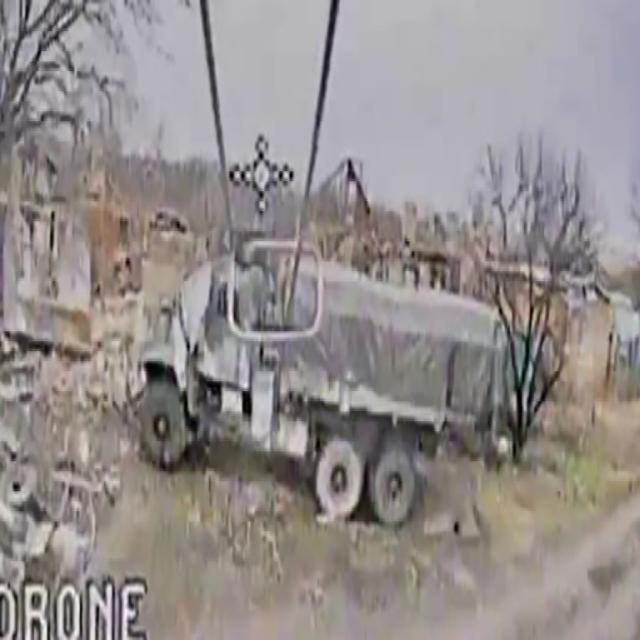TRUCK: (112, 231, 502, 536)
